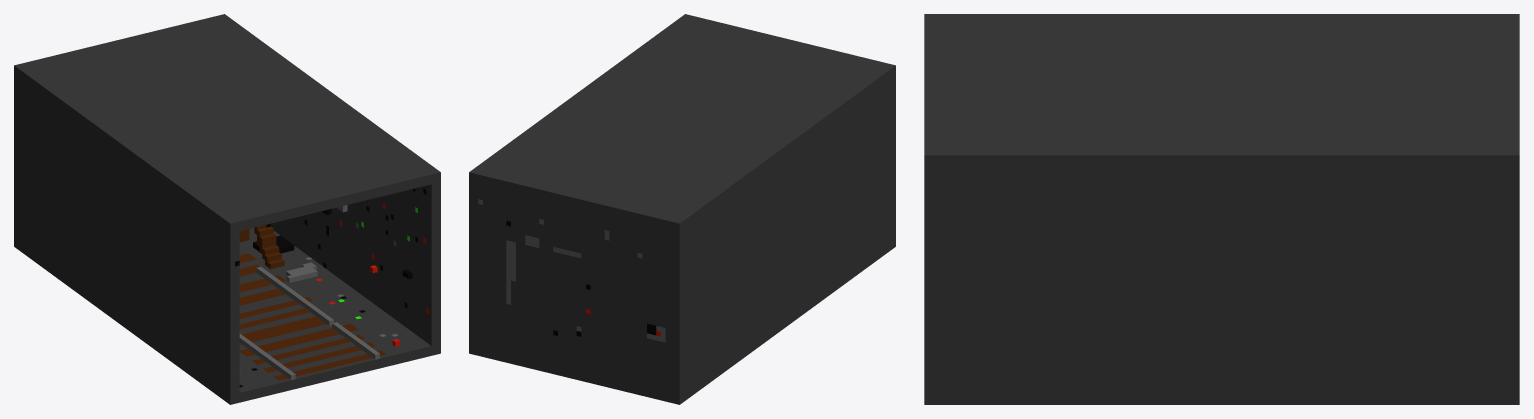
Rendered from Lvl2 Stop.obj.
3 renders of one model, left to right at view 1: azimuth 30°, elevation 25°; view 2: azimuth 150°, elevation 25°; view 3: azimuth 270°, elevation 25°, orthographic. The views are drawn at different scales.
Visible parts, largest first — view 1: Lvl2 Stop; view 2: Lvl2 Stop; view 3: Lvl2 Stop.
Boxes of the visible parts, x1=… form: Lvl2 Stop: x1=14, y1=14, x2=440, y2=404; Lvl2 Stop: x1=469, y1=14, x2=895, y2=404; Lvl2 Stop: x1=924, y1=14, x2=1519, y2=404.
Size of the model in its own units: 45 by 37 by 80.
1 material, 1 textured.
